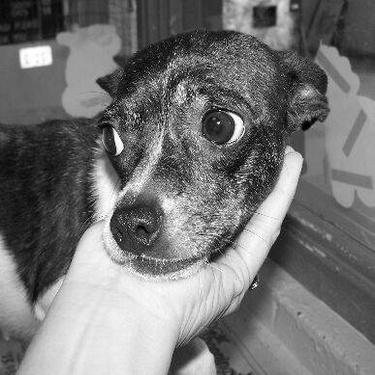dog: (1, 26, 336, 372)
